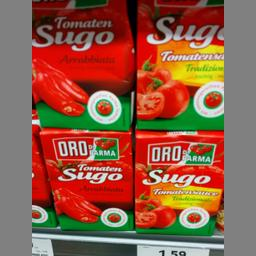tomato_sauce: (30, 0, 132, 130), (132, 0, 222, 131), (38, 126, 134, 232), (132, 126, 222, 236)
